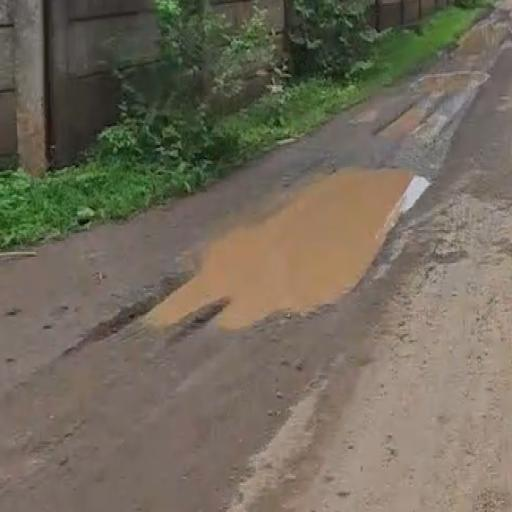pothole: (132, 136, 473, 399)
